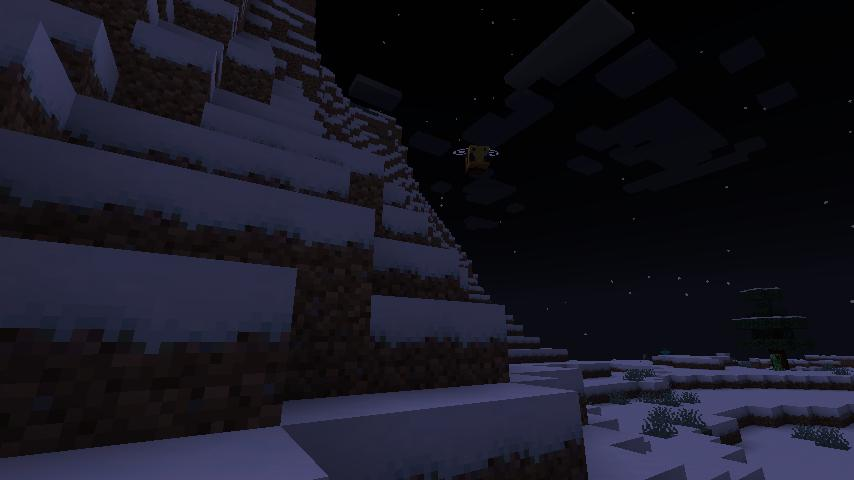bee: (449, 143, 501, 175)
